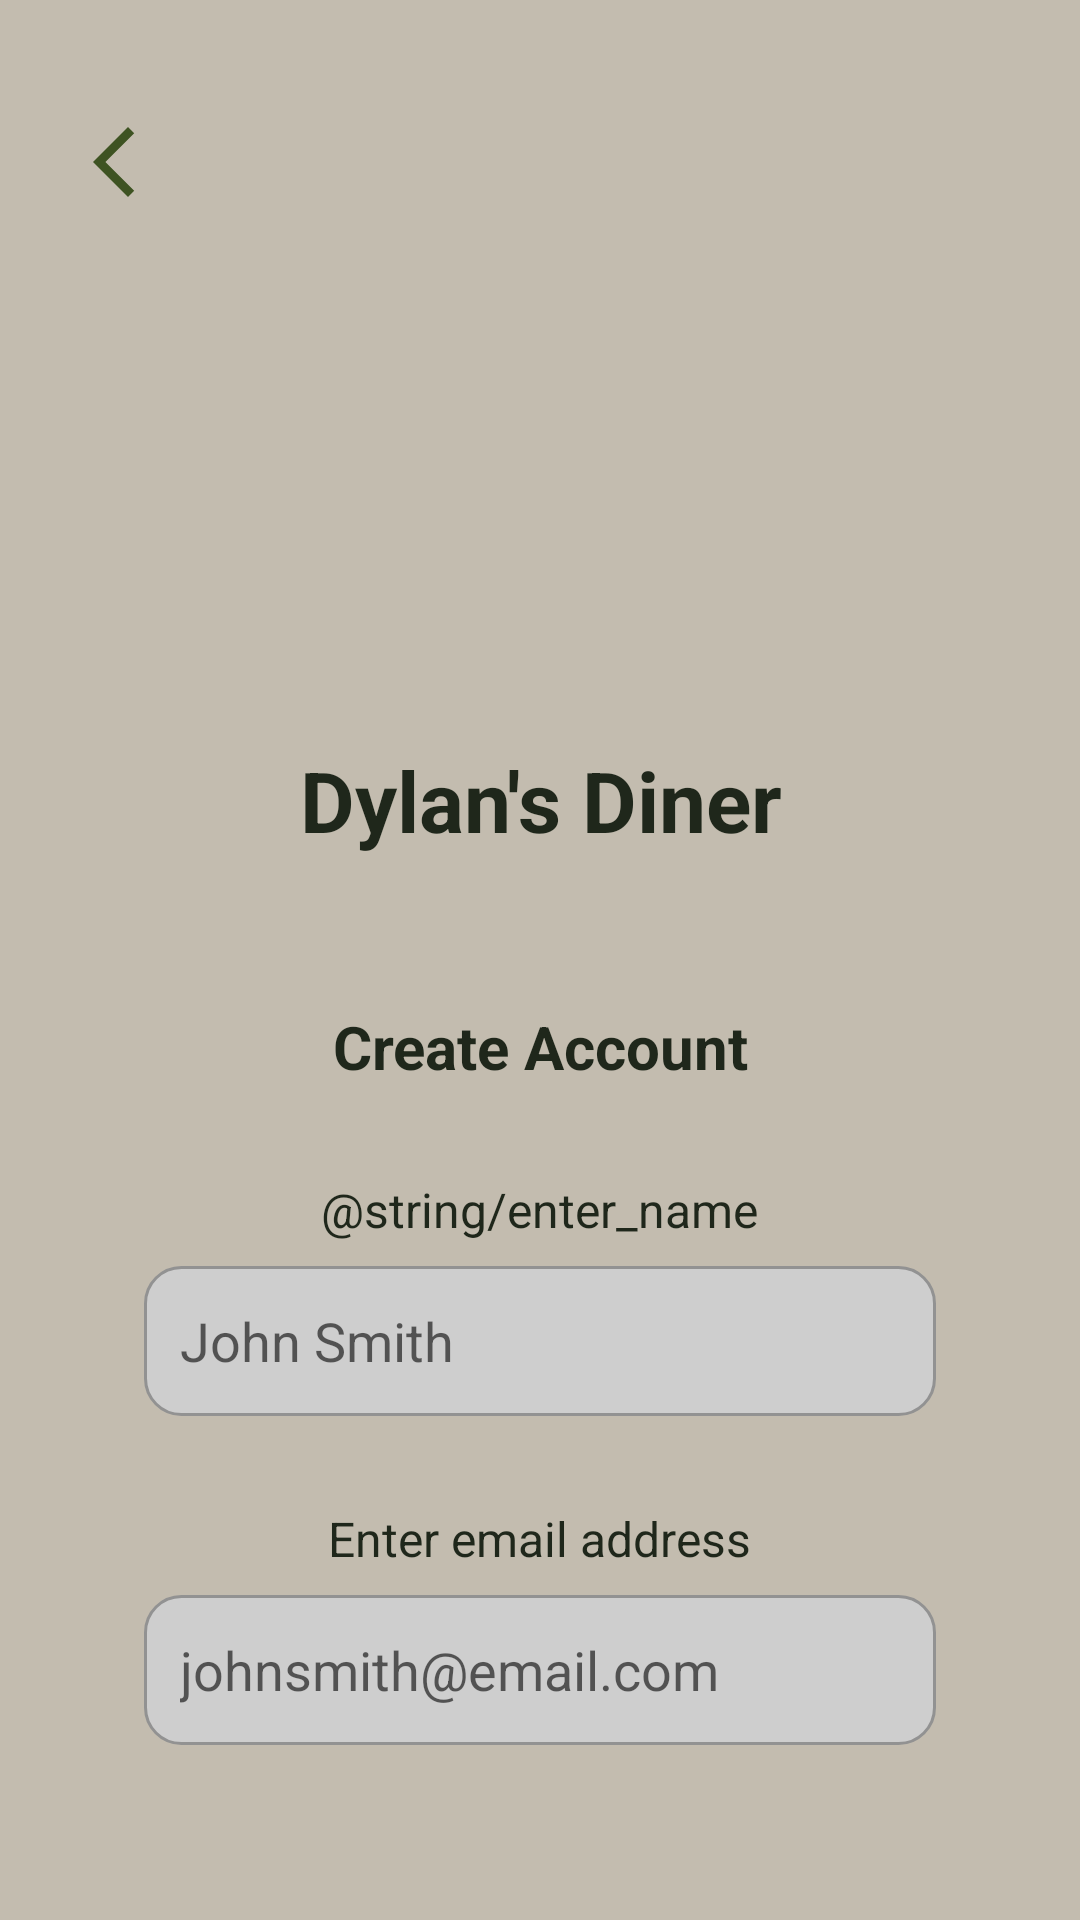

Named icons in this screenshot (1080w x 1920h) and their bounding boxes, (x1, y1, x2, y2):
Back: (93, 127, 134, 197)
